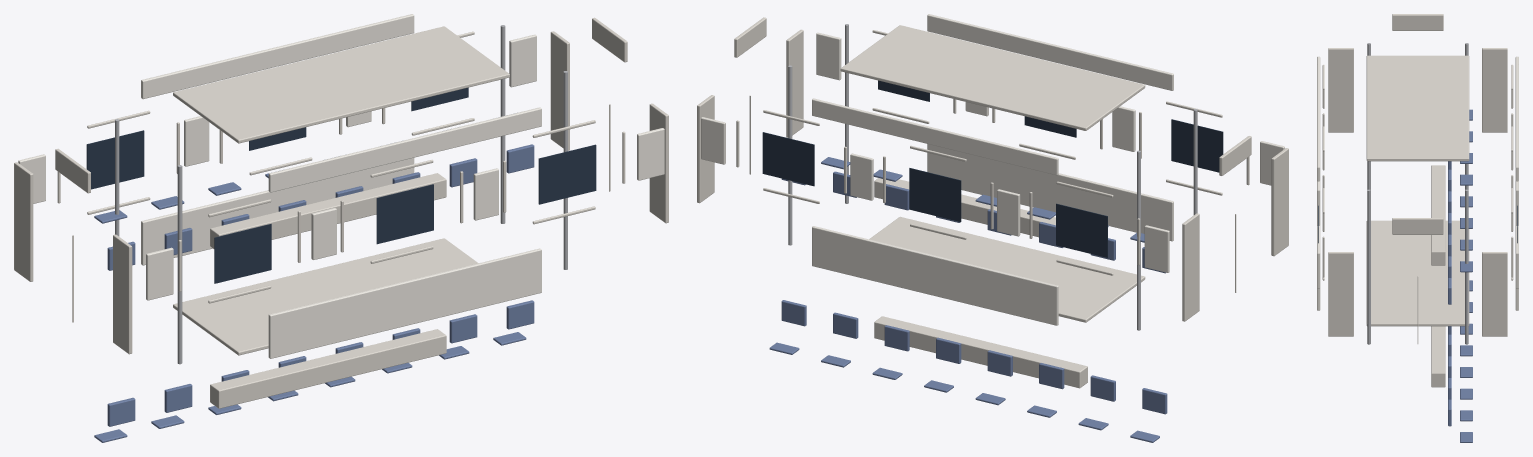
Rendered from carriage.glb.
The picture shows the model from 3 angles, left to right: view 1: azimuth 30°, elevation 25°; view 2: azimuth 150°, elevation 25°; view 3: azimuth 270°, elevation 25°; orthographic projection. The views are drawn at different scales.
Visible parts, largest first — view 1: car_ceiling, car_wall_R_sill, car_floor, car_bench_R_plinth, car_wall_L_sill, car_wall_L_top, car_wall_R_top, car_bench_L_plinth, car_window_R2, car_window_R0, car_window_R1, car_window_L0 (+21 smaller); view 2: car_ceiling, car_wall_L_sill, car_floor, car_wall_R_sill, car_wall_L_top, car_wall_R_top, car_bench_R_plinth, car_window_L2, car_window_L1, car_window_L0, car_window_R0, car_endwall_a_l (+18 smaller); view 3: car_ceiling, car_floor, car_endwall_a_l, car_endwall_a_r, car_endwall_b_l, car_endwall_b_r, car_bench_L_plinth, car_bench_R_plinth, car_endwall_a_top, car_endwall_b_top, car_pole_4, car_pole_3 (+2 smaller).
Part boxes in pixels (x1,y1,x2,y2): car_ceiling: (173,26,509,143); car_wall_R_sill: (268,248,541,358); car_floor: (173,238,478,355); car_bench_R_plinth: (210,329,446,408); car_wall_L_sill: (141,158,414,265); car_wall_L_top: (141,14,414,99); car_wall_R_top: (268,107,541,192); car_bench_L_plinth: (210,173,446,248); car_window_R2: (538,144,596,204); car_window_R0: (214,224,271,283); car_window_R1: (376,184,433,244); car_window_L0: (86,130,144,189); car_ceiling: (840,25,1145,130); car_wall_L_sill: (812,226,1058,325); car_floor: (869,216,1145,322); car_wall_R_sill: (927,144,1173,241); car_wall_L_top: (812,98,1058,175); car_wall_R_top: (927,14,1173,90); car_bench_R_plinth: (874,316,1087,388); car_window_L2: (762,132,814,186); car_window_L1: (909,168,961,221); car_window_L0: (1056,203,1107,257); car_window_R0: (1171,119,1223,172); car_endwall_a_l: (1182,213,1199,321); car_ceiling: (1366,55,1469,161); car_floor: (1366,220,1469,326); car_endwall_a_l: (1482,48,1507,132); car_endwall_a_r: (1328,48,1353,132); car_endwall_b_l: (1482,252,1507,336); car_endwall_b_r: (1328,252,1353,336); car_bench_L_plinth: (1431,165,1445,265); car_bench_R_plinth: (1431,326,1445,387); car_endwall_a_top: (1392,14,1443,30); car_endwall_b_top: (1392,218,1443,234); car_pole_4: (1367,189,1370,344); car_pole_3: (1465,189,1468,344).
Bounding box in the file's own units: 6.16 × 3.58 × 2.56.
